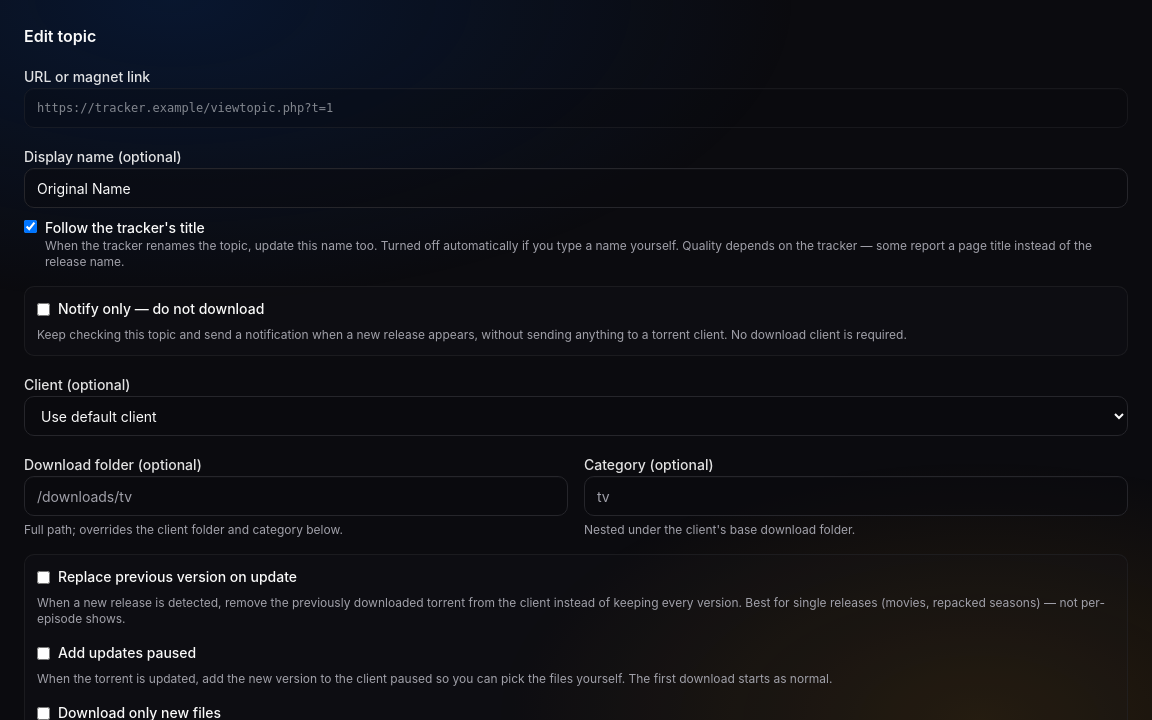
Test: TopicForm follow-the-tracker-title › turns the toggle off while the name is edited
Step 1. Type "x" into the field labelled "Display name (optional)" → (576, 188), box [24, 168, 1128, 208]
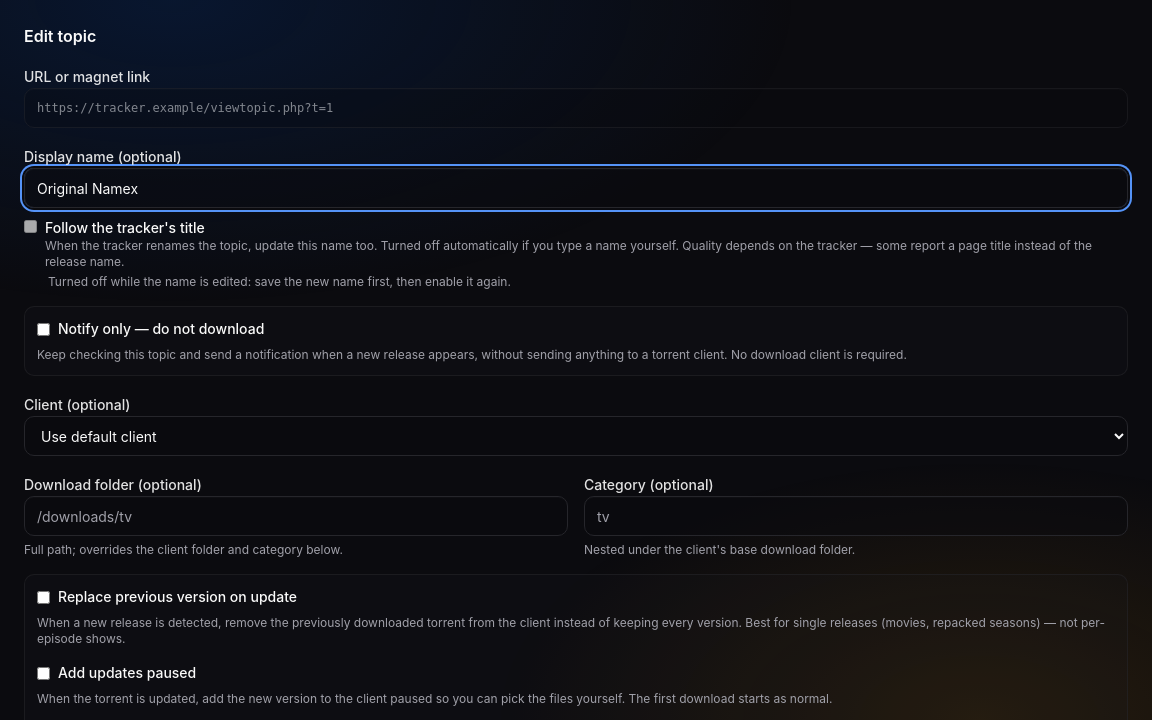
Check: the checkbox labelled "Follow the tracker's title" is not checked, box [24, 220, 37, 233]
Check: the checkbox labelled "Follow the tracker's title" is disabled, box [24, 220, 37, 233]
Check: the text "save the new name first" is shown, box [48, 274, 511, 289]
